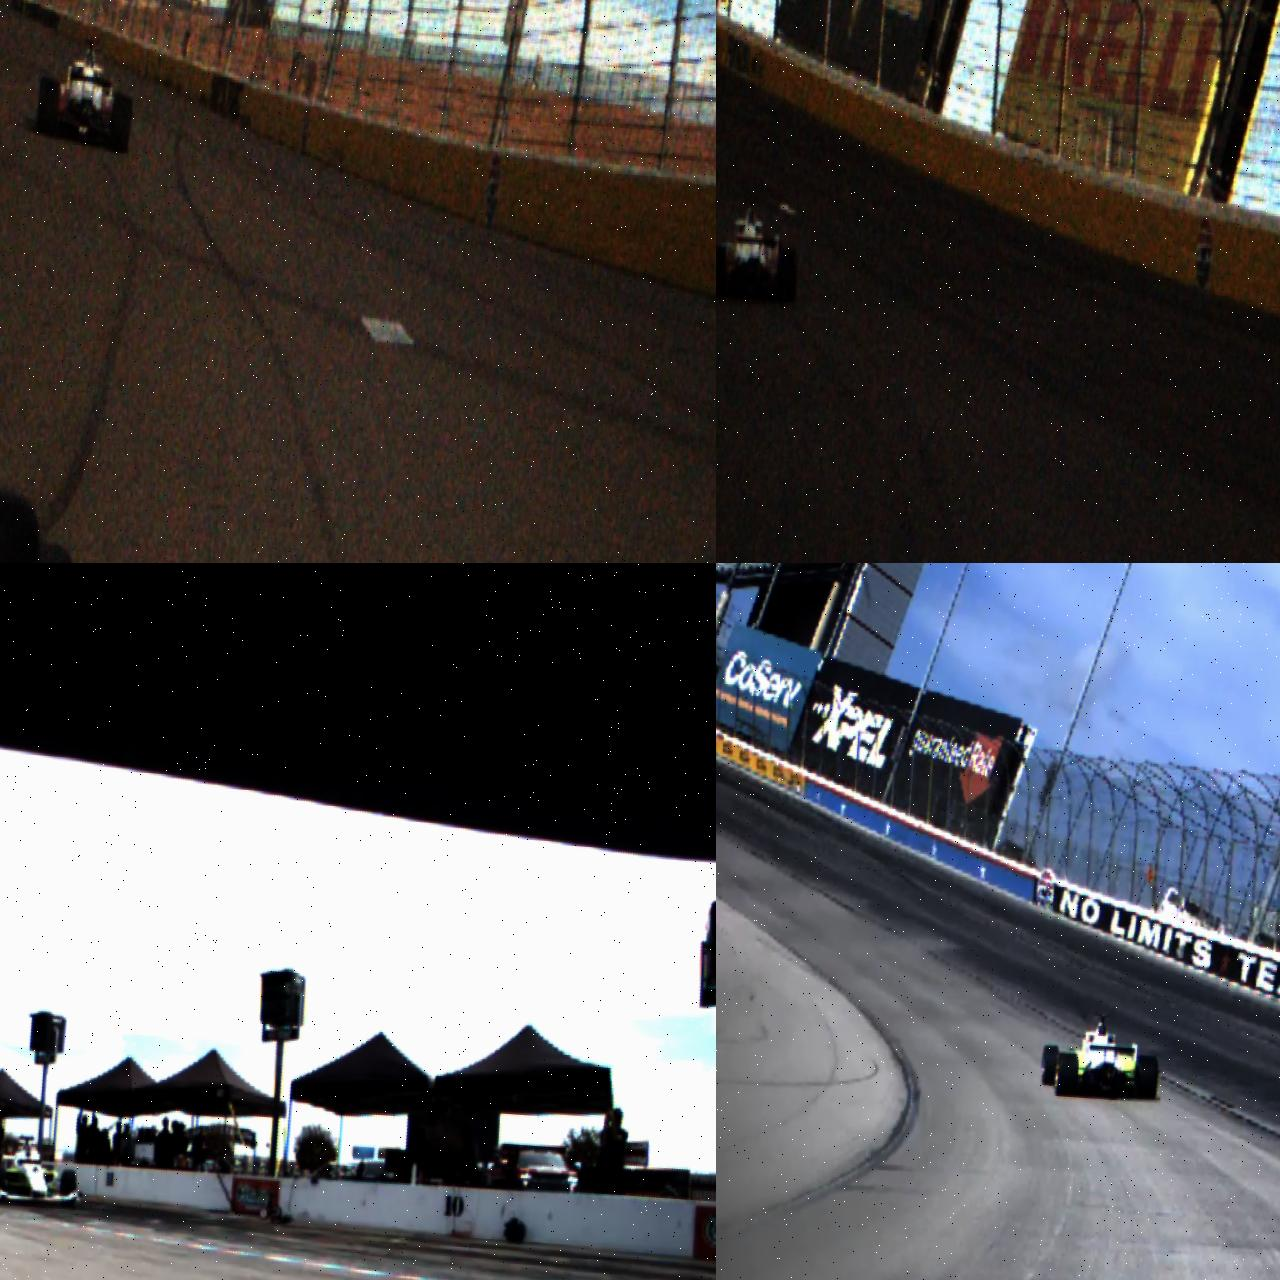AV: (34, 35, 136, 154), (1040, 1008, 1163, 1103), (716, 197, 802, 305), (0, 1133, 80, 1206)
Wheel: (36, 79, 61, 136), (777, 248, 799, 305), (111, 95, 132, 154), (1135, 1055, 1159, 1101), (1055, 1053, 1080, 1096), (1041, 1044, 1060, 1085), (59, 1170, 77, 1208), (716, 245, 727, 299), (0, 1165, 6, 1199)
